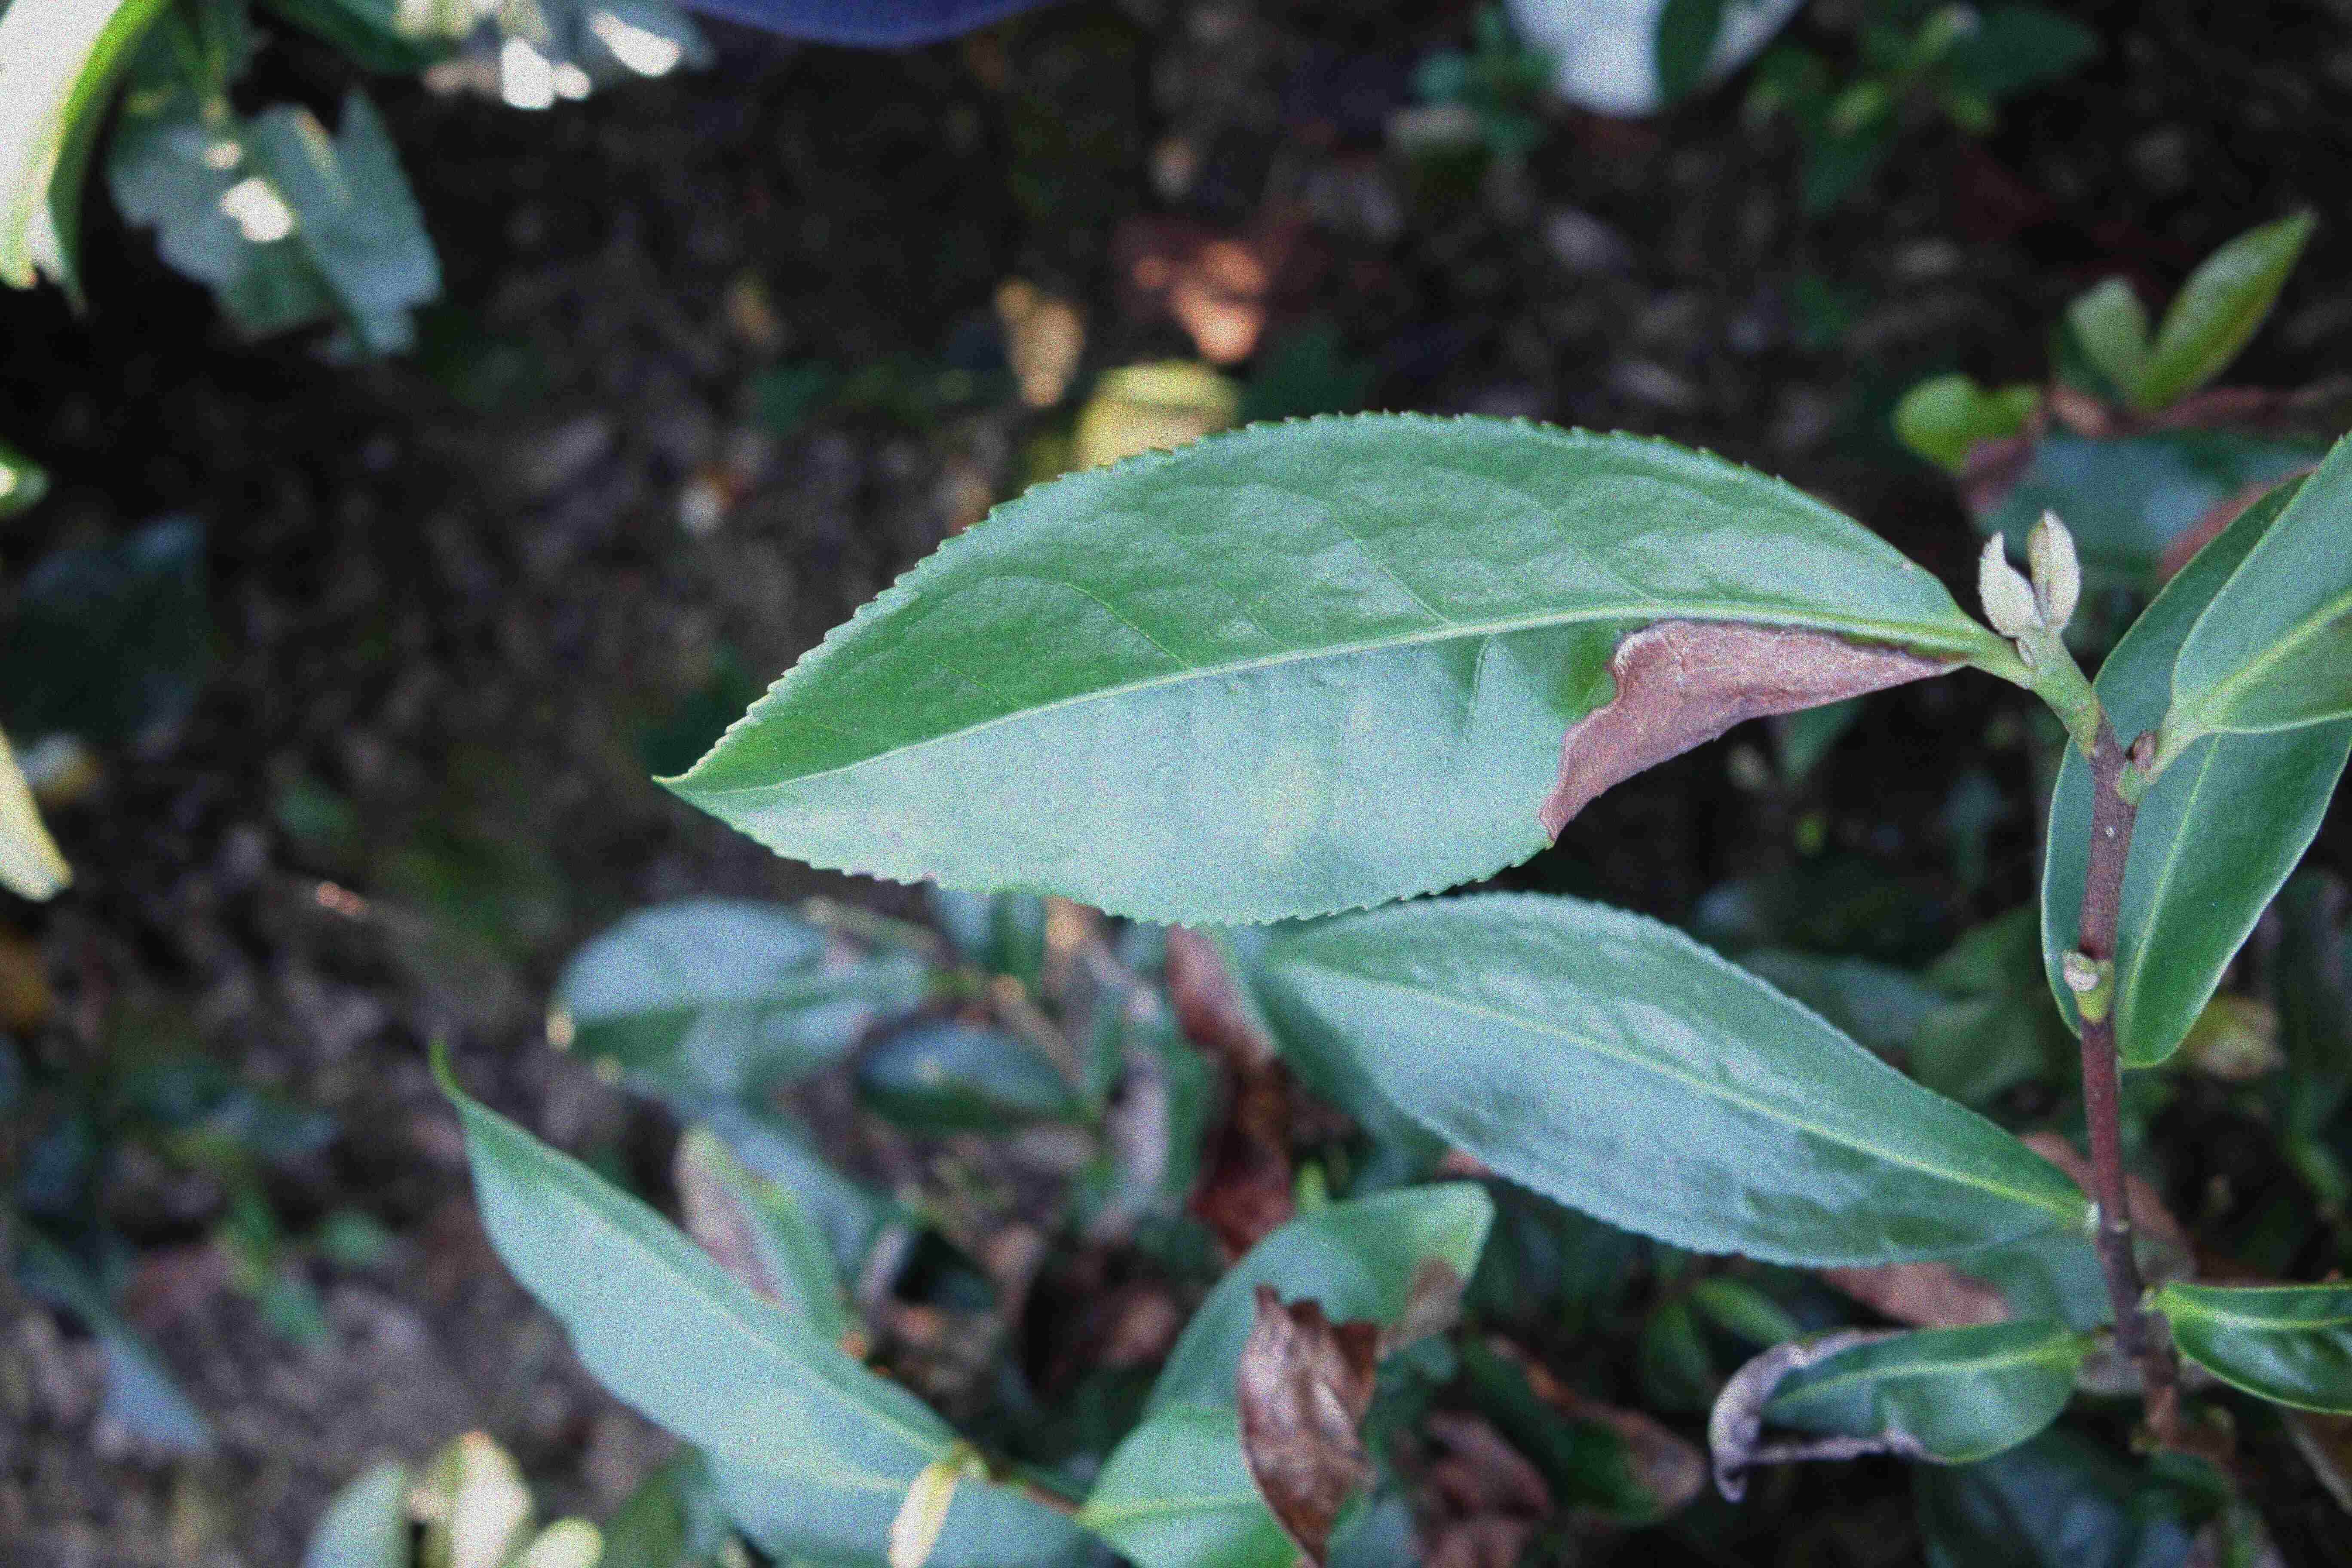healthy: (1267, 887, 2096, 1269), (2039, 476, 2352, 1067)
tanju_high: (653, 408, 1991, 927)
